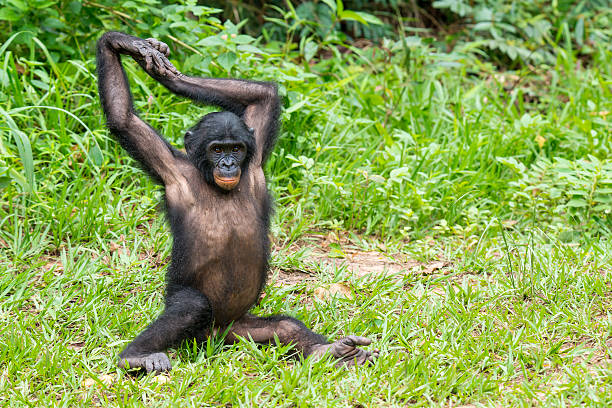chimpanzee: (171, 108, 260, 213)
